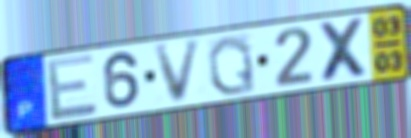2: (272, 25, 317, 90)
6: (102, 50, 142, 111)
E: (44, 51, 100, 124)
Q: (206, 33, 258, 98)
V: (152, 36, 205, 107)
X: (316, 15, 374, 85)
